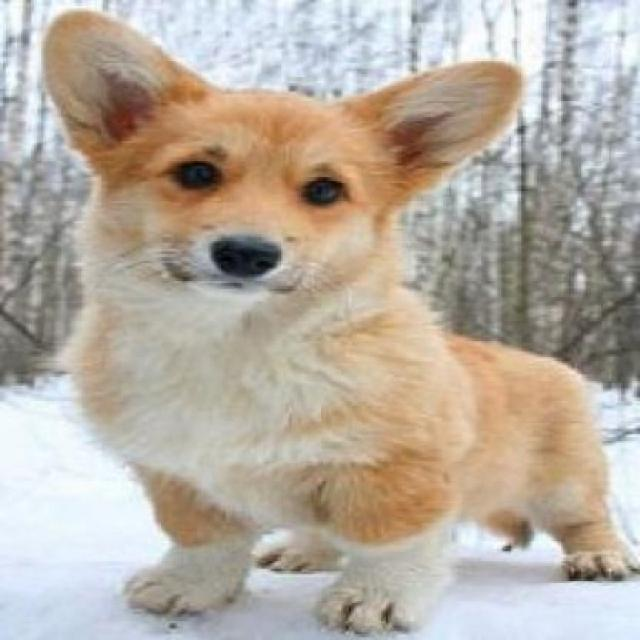Dog: (36, 3, 638, 639)
